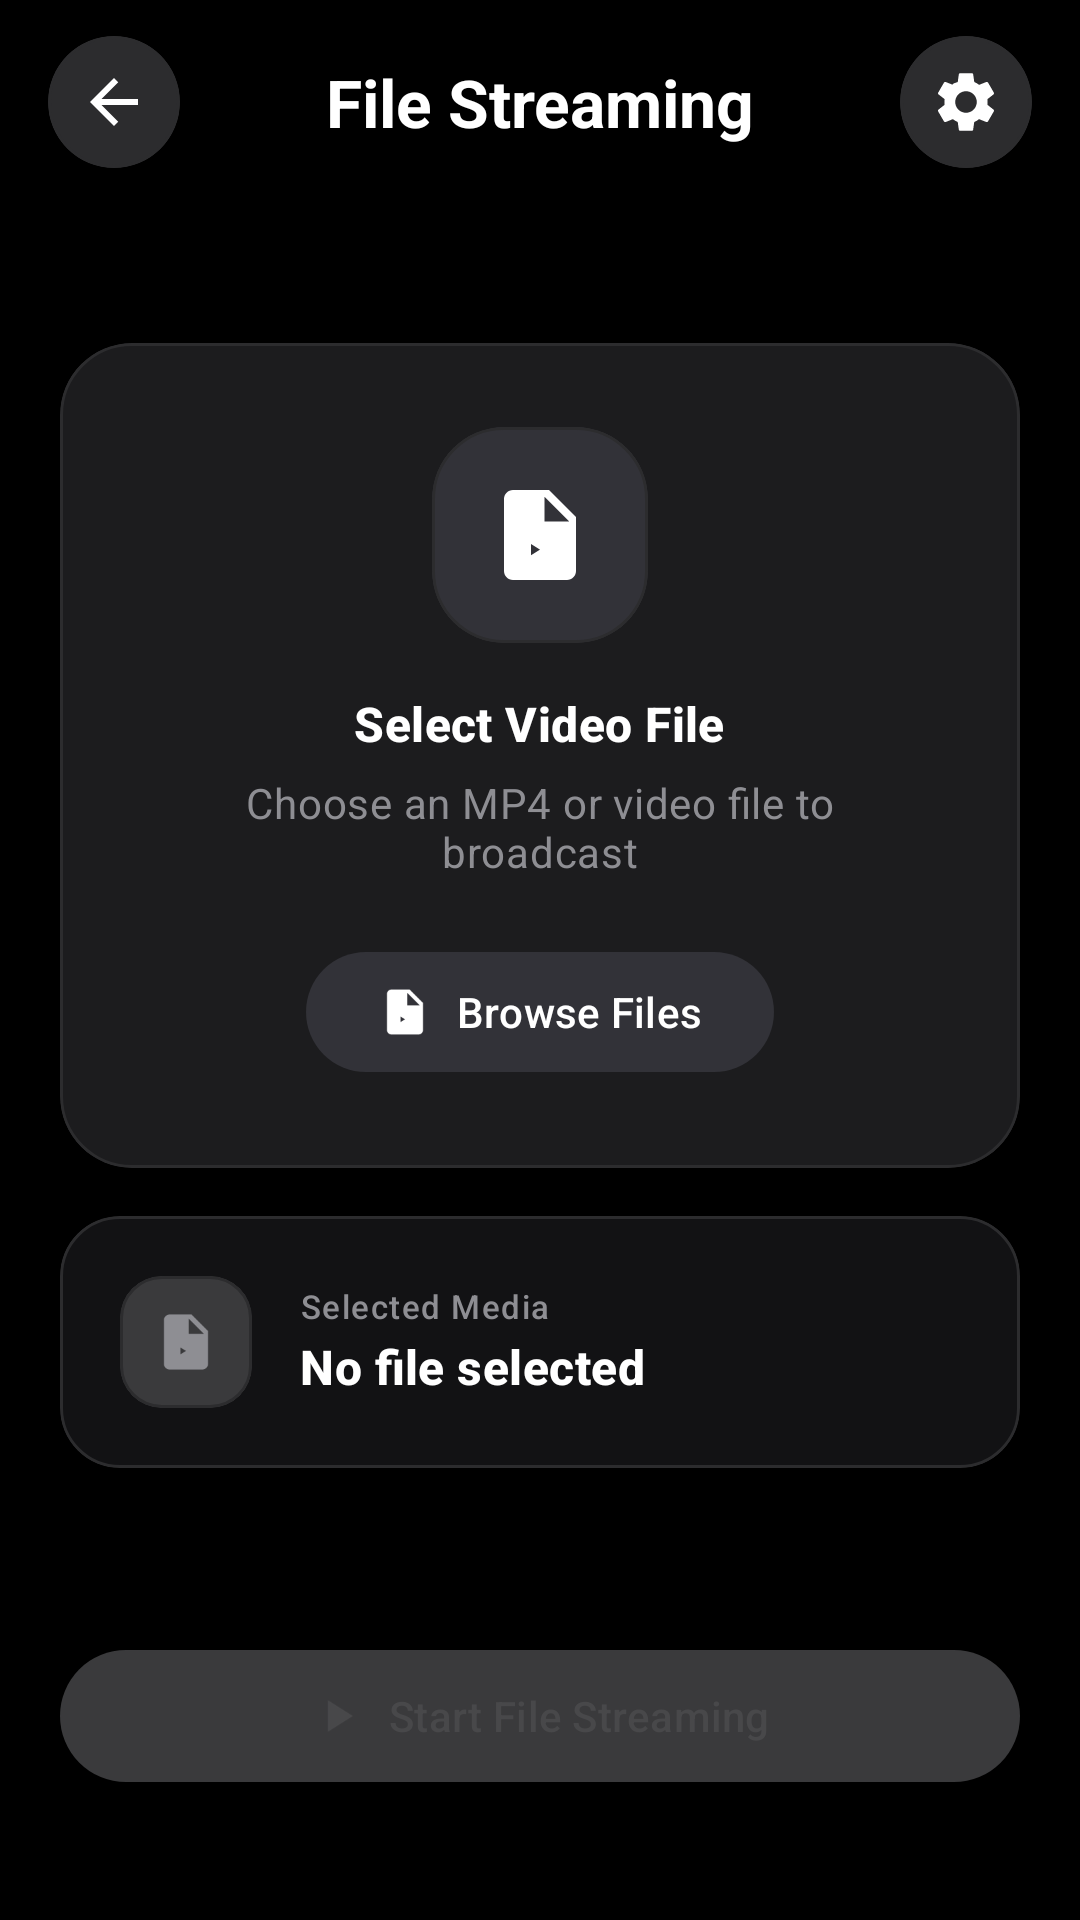

Icons on this 1080w x 1920h Android screen, each with its box as (x1, y1, x2, y2):
arrow back: (90, 78, 138, 126)
settings: (938, 73, 994, 131)
